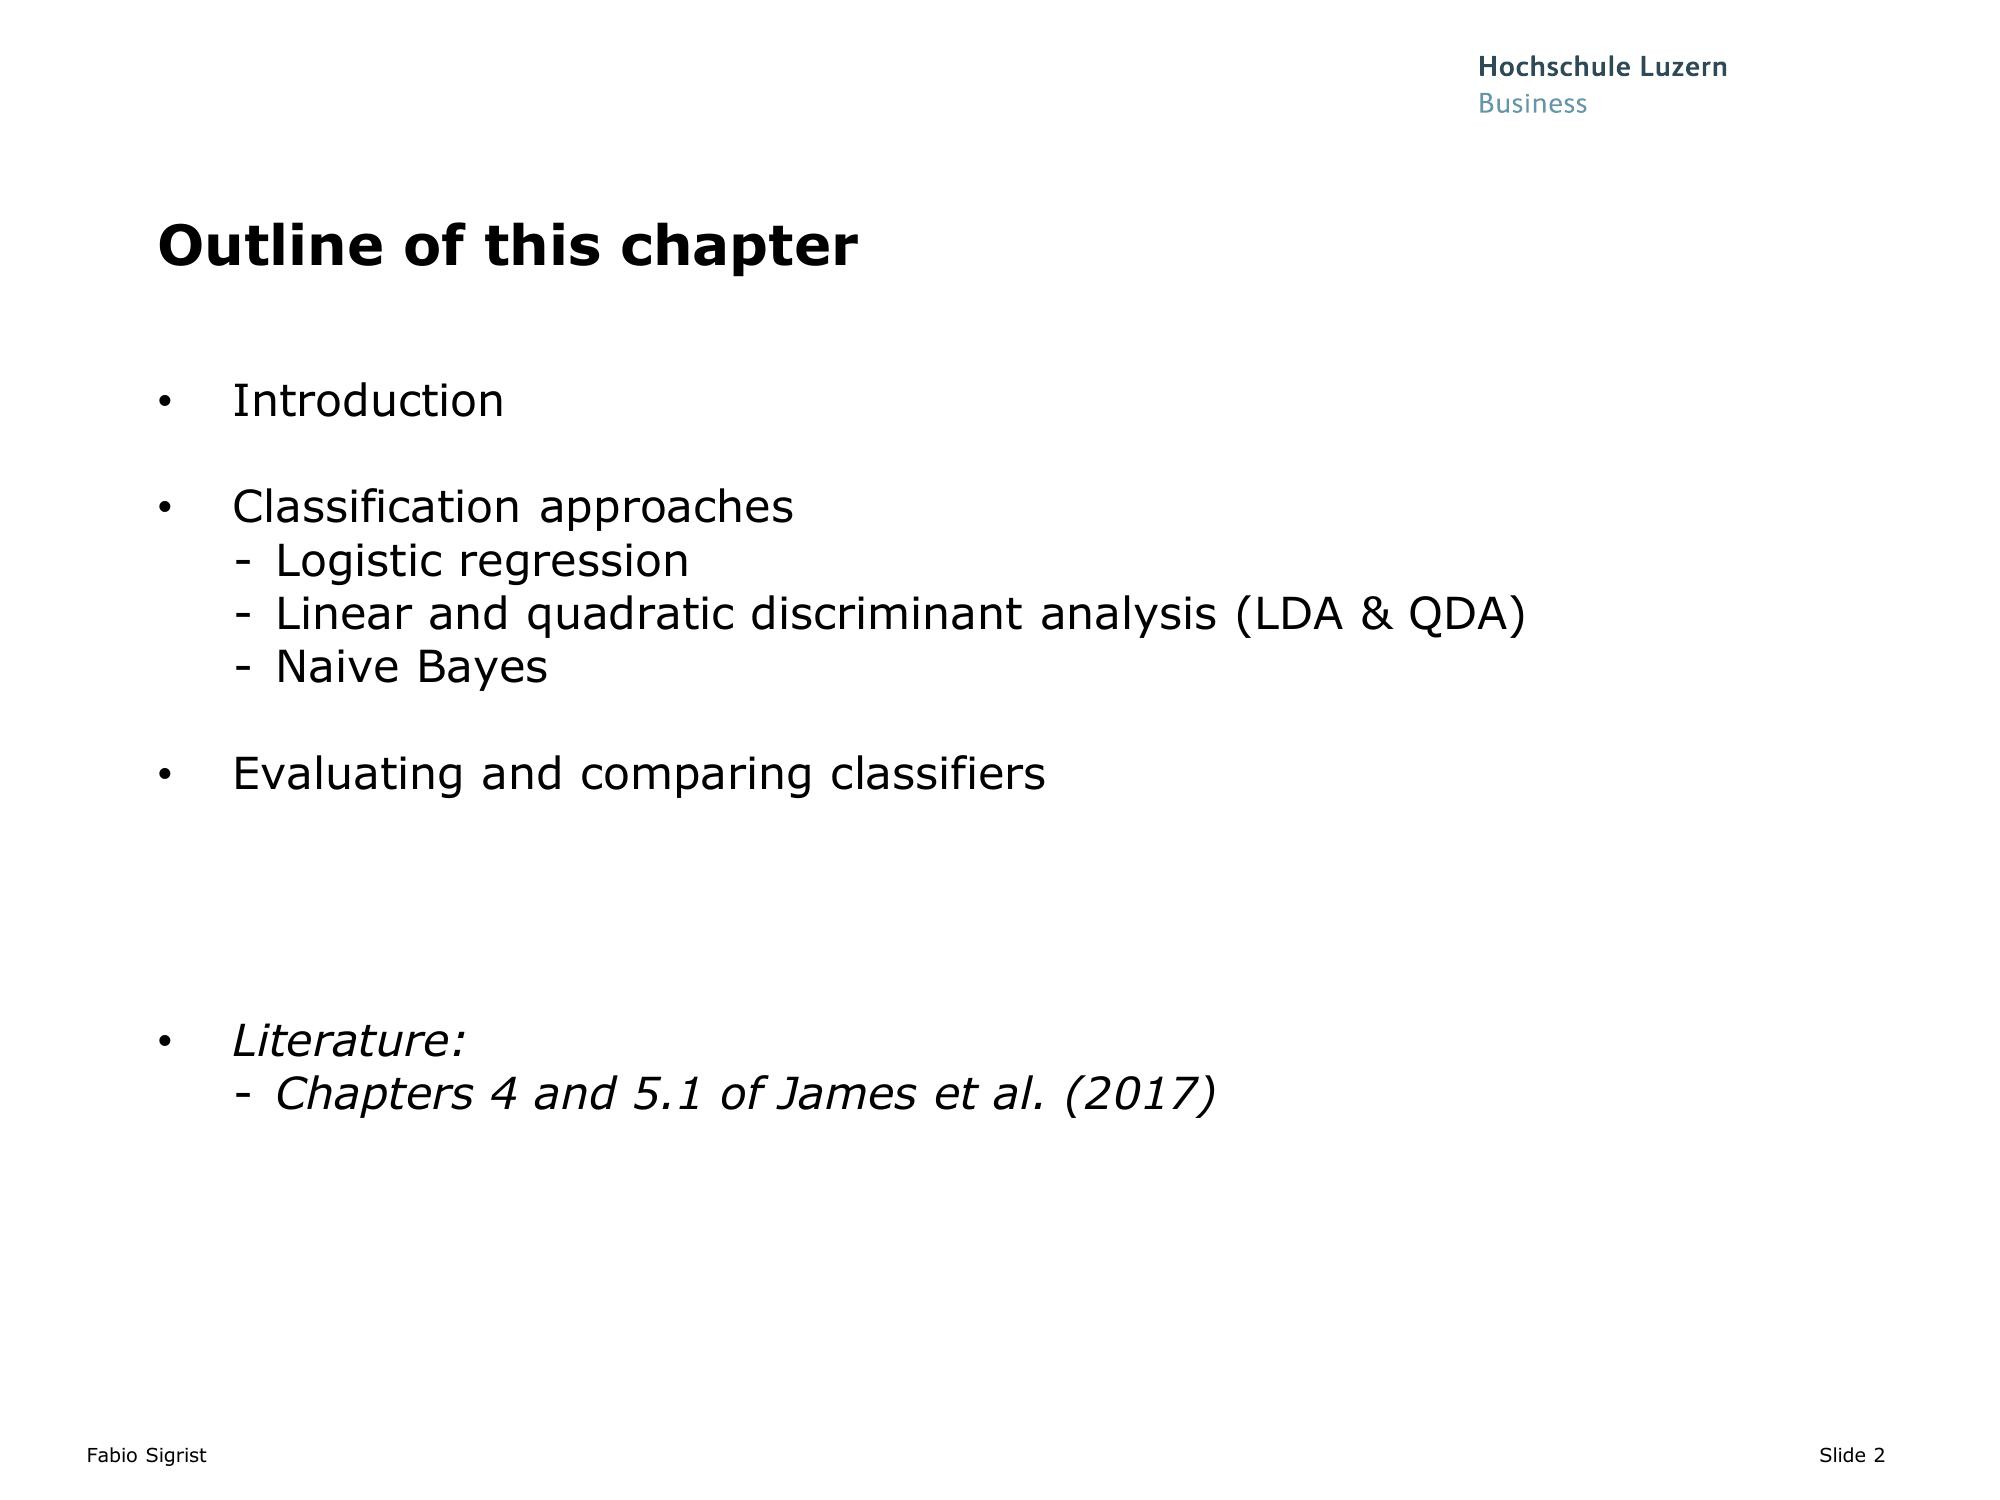Title: (139, 206, 891, 277)
